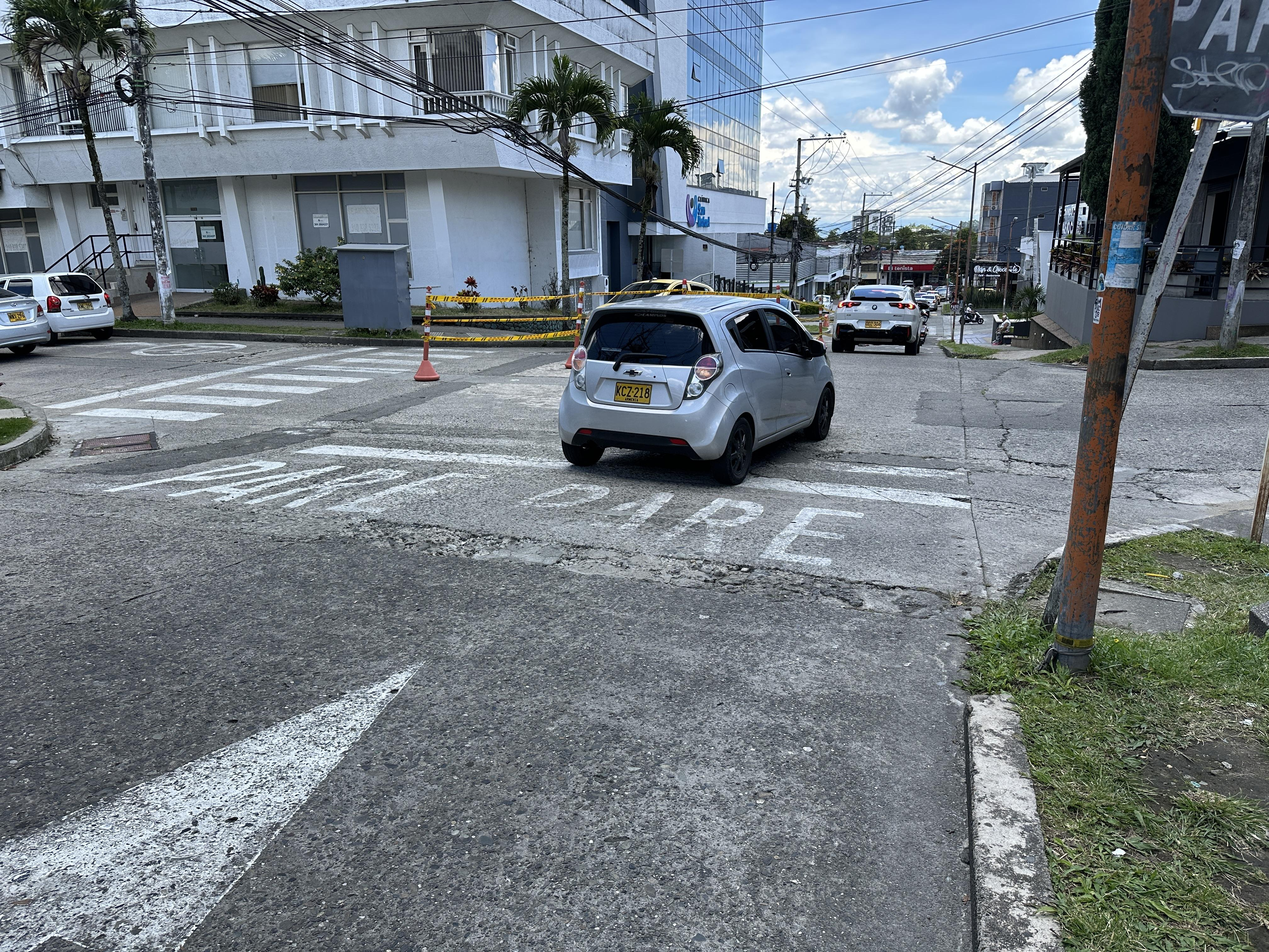bache: (304, 520, 972, 619), (815, 450, 844, 462), (945, 497, 972, 503)
grieta: (983, 396, 1069, 468), (1113, 479, 1206, 506)
rejilla: (71, 431, 159, 457)
